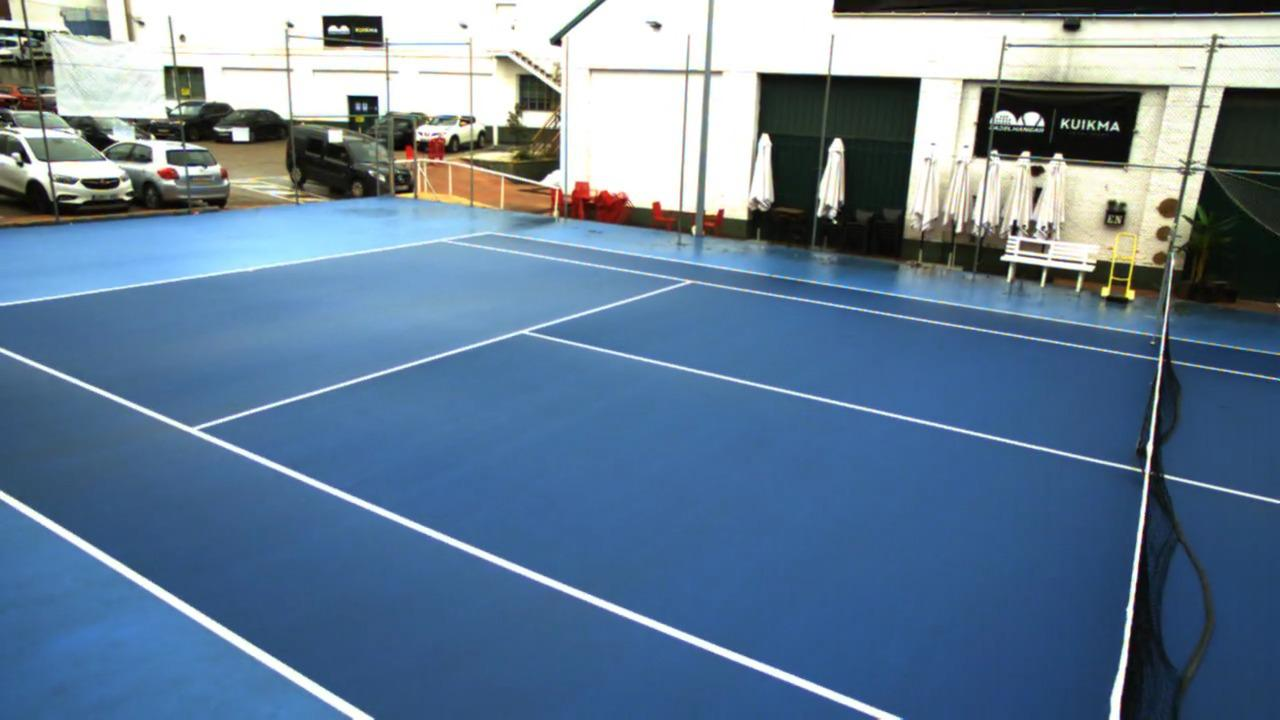cancha_tenis: (0, 238, 1280, 719)
point_f2: (430, 230, 458, 253)
point_fc1: (243, 260, 261, 277)
point_i1: (179, 418, 213, 445)
point_i2: (671, 270, 705, 291)
point_ic1: (509, 320, 542, 347)
